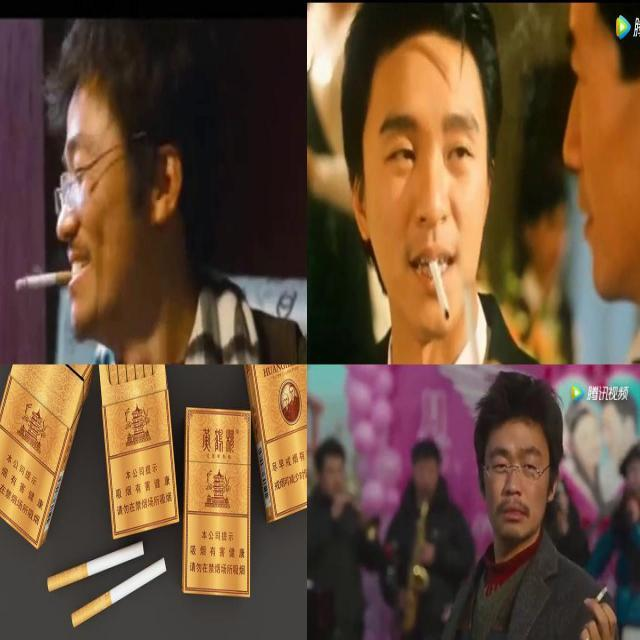smoking: (71, 557, 167, 627), (48, 541, 144, 591), (428, 255, 452, 322), (15, 268, 73, 290), (594, 584, 608, 604)
